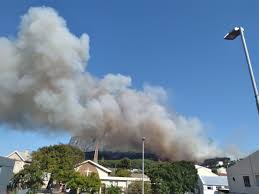smoke: (1, 37, 89, 122), (90, 76, 163, 153), (165, 115, 209, 158), (21, 8, 71, 37)
